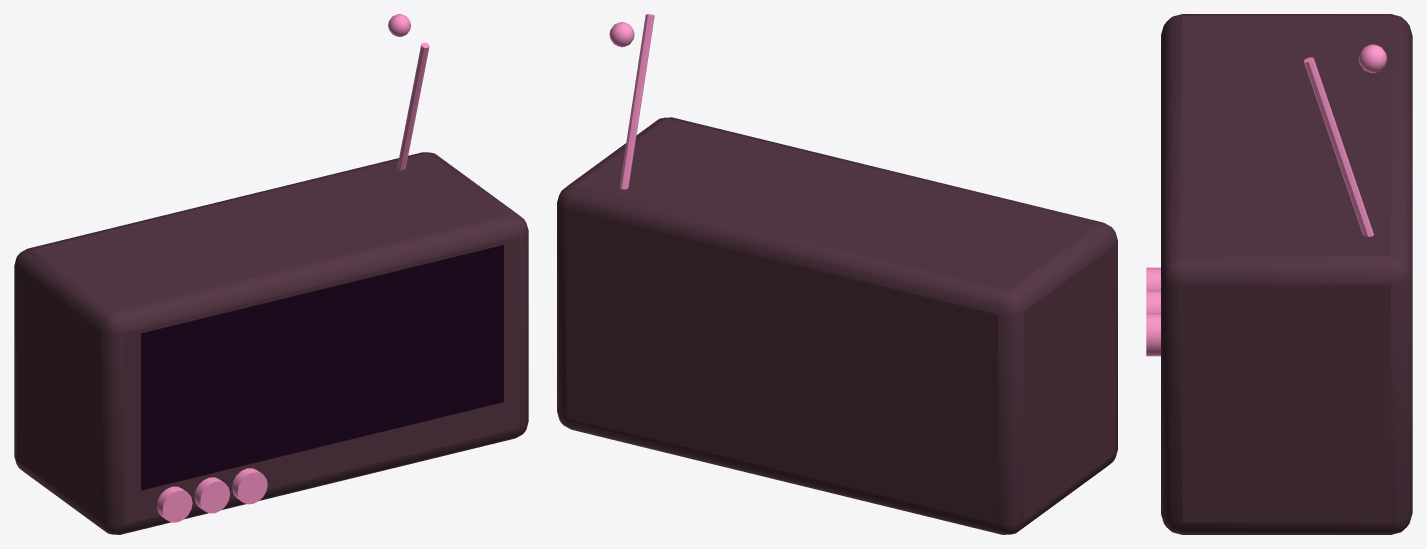
The model's file is StaminaMonitor.fbx.
The picture shows the model from 3 angles, left to right: view 1: azimuth 30°, elevation 25°; view 2: azimuth 150°, elevation 25°; view 3: azimuth 270°, elevation 25°; orthographic projection. The views are drawn at different scales.
Visible parts, largest first — view 1: Monitor_Body, Monitor_Screen, Monitor_Knobs, Monitor_Antenna; view 2: Monitor_Body, Monitor_Antenna; view 3: Monitor_Body, Monitor_Antenna, Monitor_Knobs.
Part boxes in pixels (x1,y1,x2,y2): Monitor_Body: [14, 152, 528, 534]; Monitor_Screen: [141, 245, 503, 490]; Monitor_Knobs: [157, 468, 267, 522]; Monitor_Antenna: [388, 14, 429, 170]; Monitor_Body: [557, 117, 1117, 534]; Monitor_Antenna: [609, 14, 654, 189]; Monitor_Body: [1161, 14, 1412, 534]; Monitor_Antenna: [1303, 44, 1387, 236]; Monitor_Knobs: [1146, 267, 1160, 356].
Bounding box in the file's own units: 0.34 × 0.286 × 0.148.
